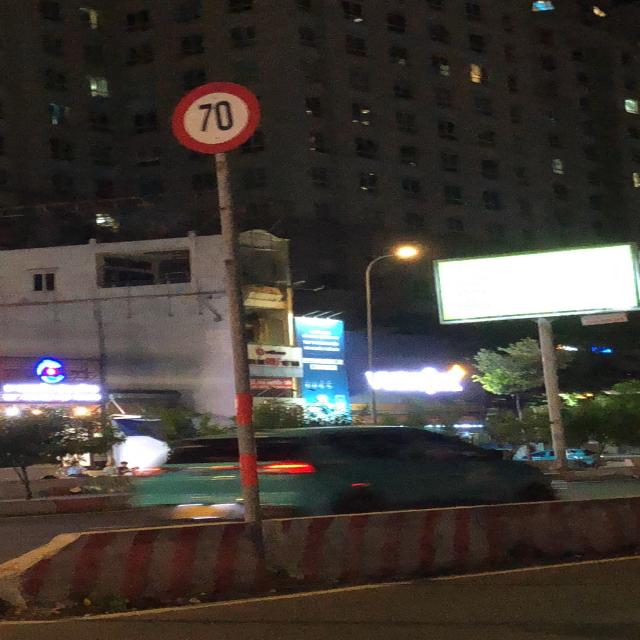Bien bao toc do toi da cho phep: (162, 77, 254, 160)
